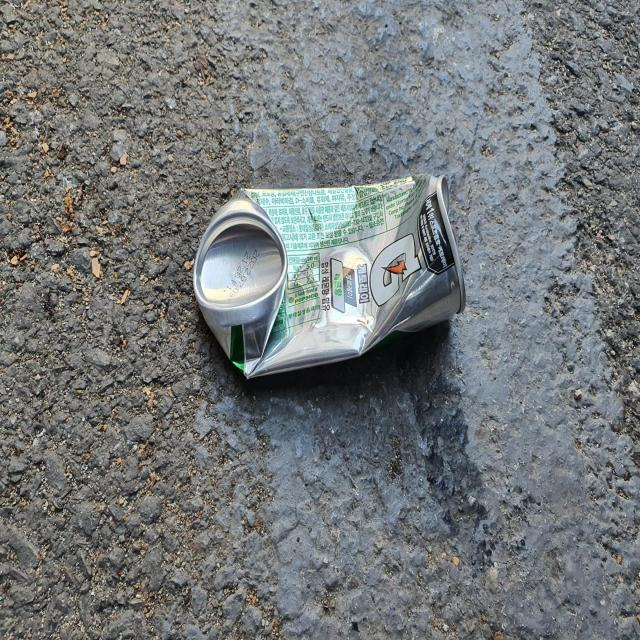can: (193, 174, 466, 378)
